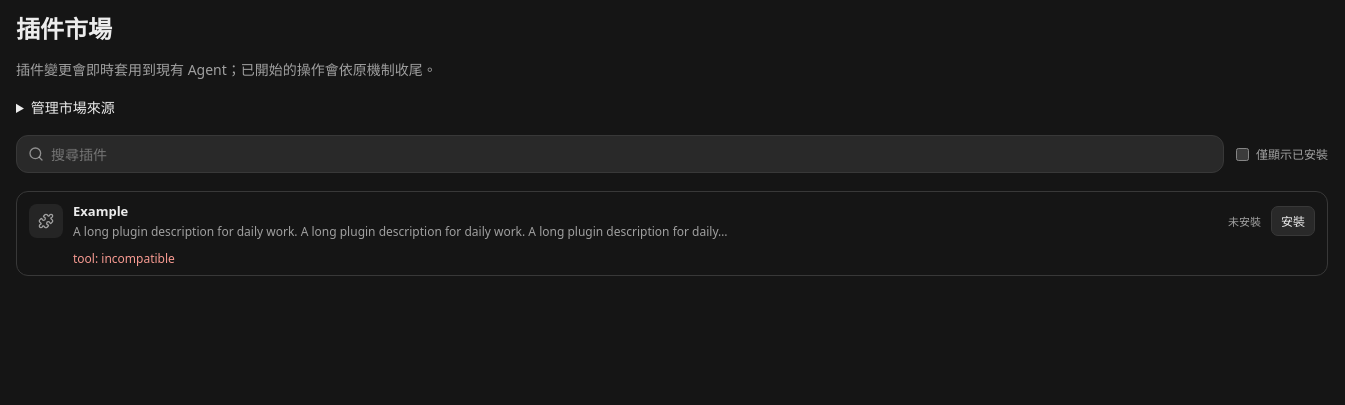
keeps the catalog compact and reveals the full plugin description on demand
expect the button "安裝" is shown: met, box [1271,206,1315,236]
expect the message shows "incompatible": met, box [101,250,175,267]
Click the button with aria-label "查看插件詳情 Example".
click(646, 221)  # box [73,202,1218,240]
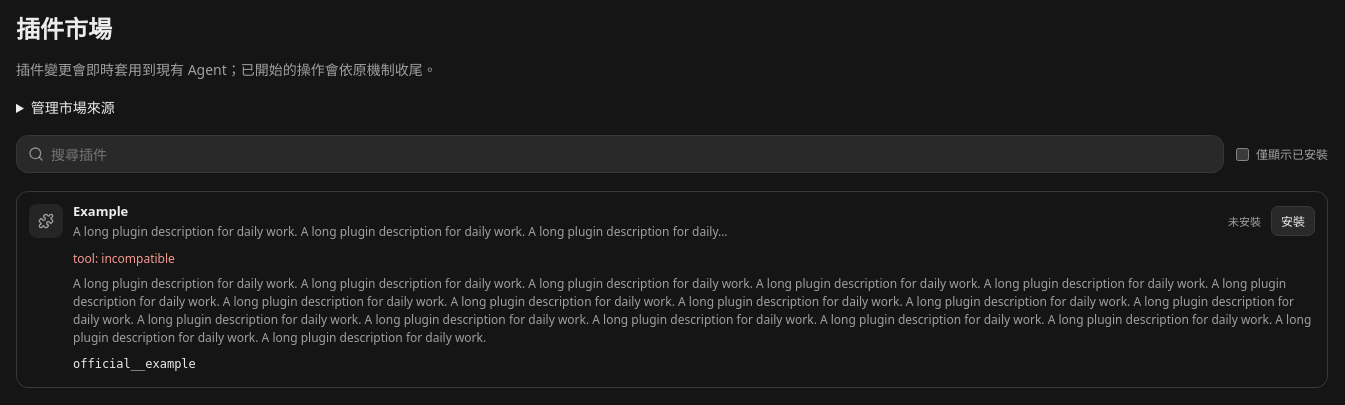
expect the text "official__example" is shown: met, box [73,357,196,371]
